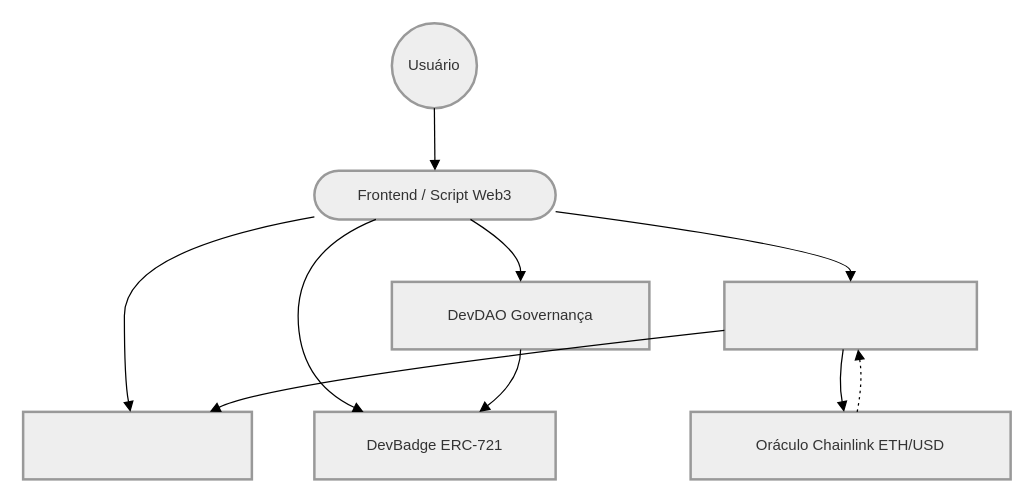
This 1033x501 diagram has some shape labels left out. The shapes that lost their labels are listed below. From the top down, each one's centre as x and y in pixels, then its label:
the point at 850,315: Contrato de Staking
the point at 136,445: DevToken ERC-20
